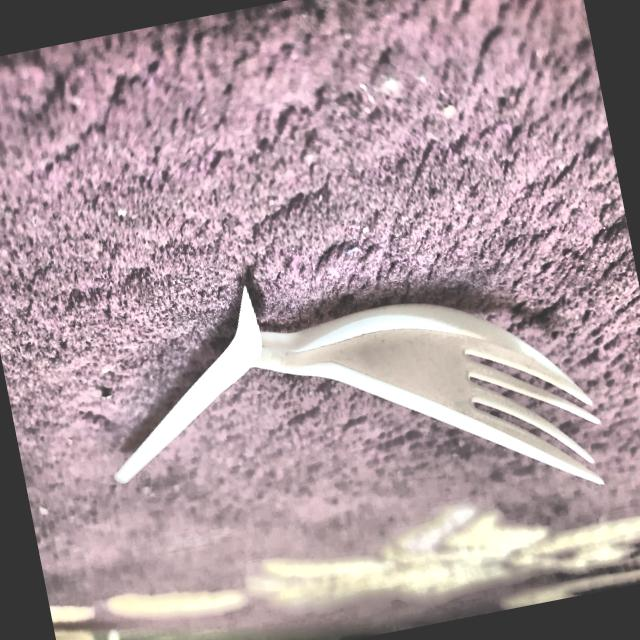plastic utensil: (80, 217, 621, 590)
